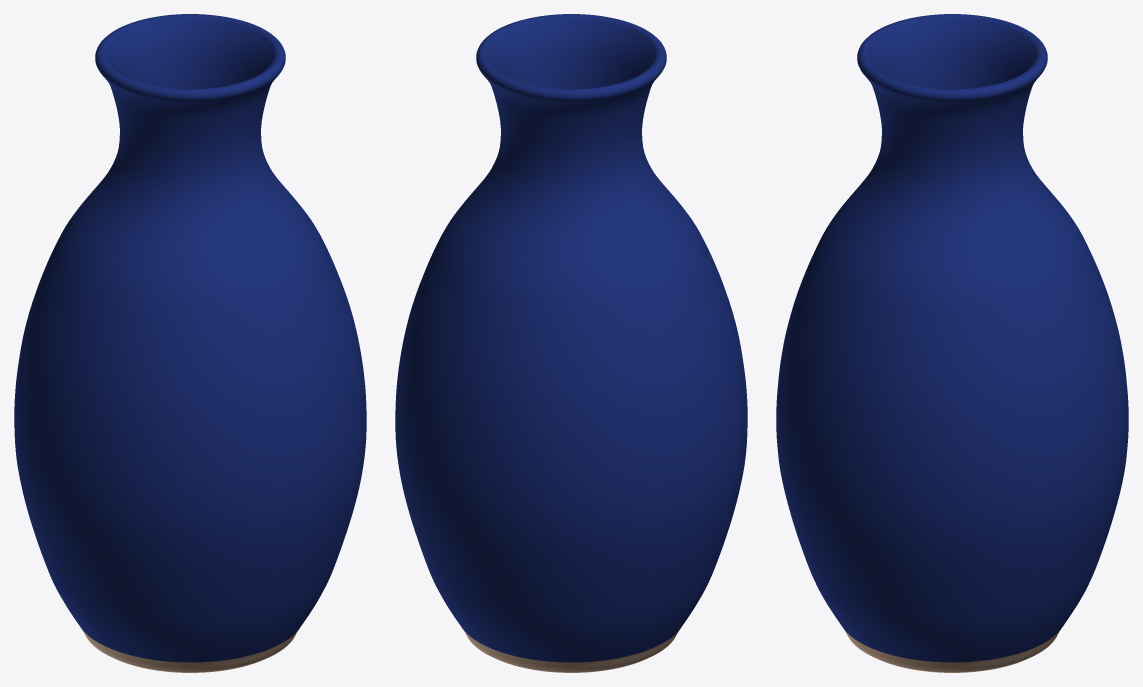
The model's file is albufera.glb.
3 renders of one model, left to right at view 1: azimuth 30°, elevation 25°; view 2: azimuth 150°, elevation 25°; view 3: azimuth 270°, elevation 25°, orthographic.
Visible parts, largest first — view 1: albufera; view 2: albufera; view 3: albufera.
Part boxes in pixels (x1,y1,x2,y2): albufera: (14,14,366,672); albufera: (395,14,747,672); albufera: (776,14,1128,672).
Bounding box in the file's own units: 0.1798 × 0.3255 × 0.1798.
